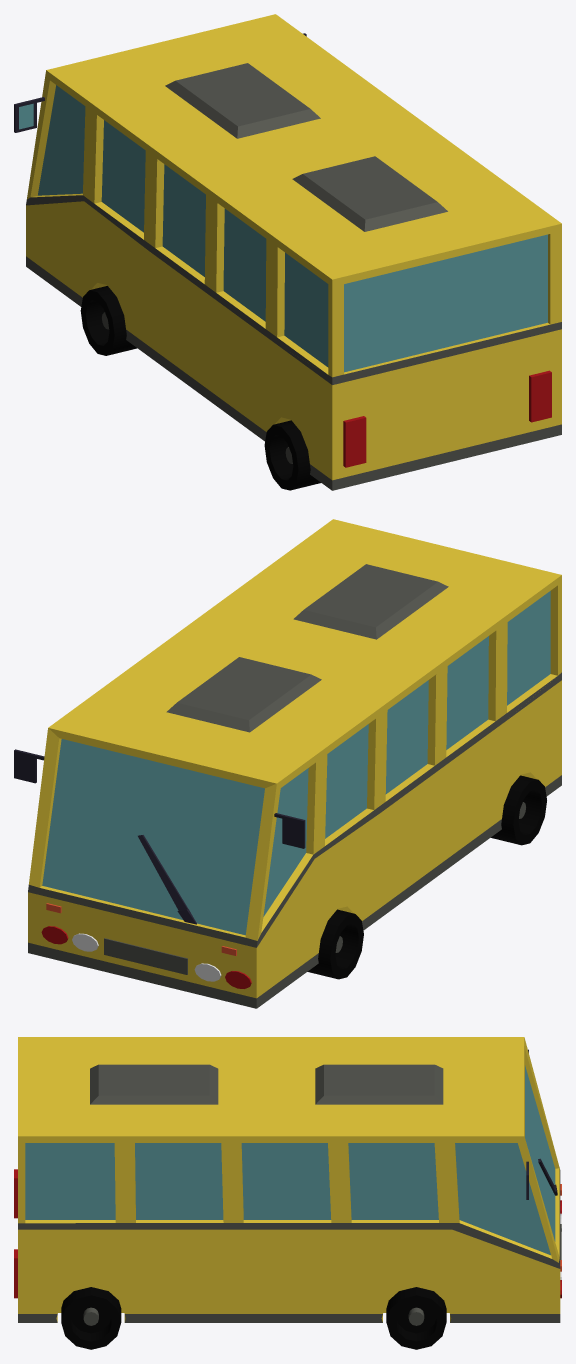
File: bus.fbx
3 views of the same model, one above another, from view 1: azimuth 30°, elevation 25°; view 2: azimuth 150°, elevation 25°; view 3: azimuth 270°, elevation 25° (orthographic). The views are drawn at different scales.
Visible parts, largest first — view 1: Bus; view 2: Bus; view 3: Bus.
Boxes of the visible parts, x1=… form: Bus: x1=14, y1=14, x2=561, y2=490; Bus: x1=14, y1=519, x2=561, y2=1008; Bus: x1=14, y1=1037, x2=561, y2=1349.
Size of the model in its own units: 449 by 360 by 827.
